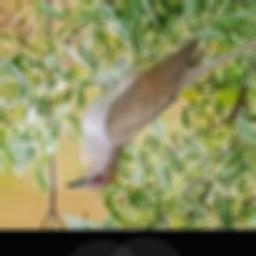Cuckoo: (63, 20, 256, 191)
